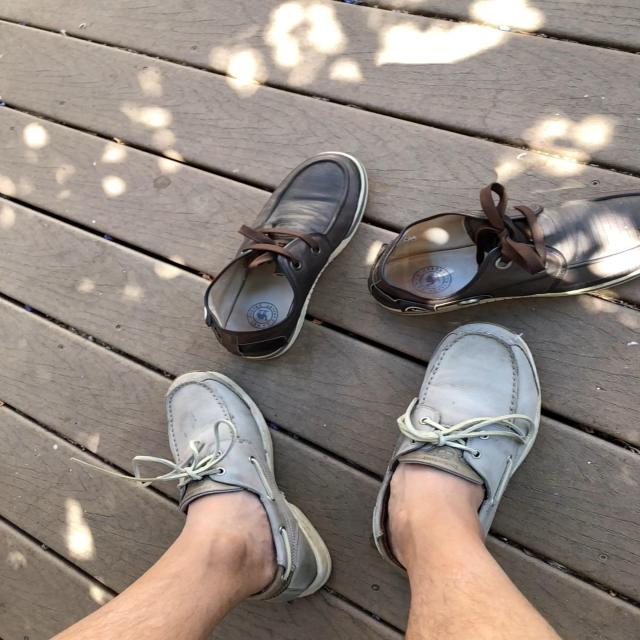shoe: (364, 321, 550, 575), (159, 373, 329, 603), (203, 153, 368, 360)
